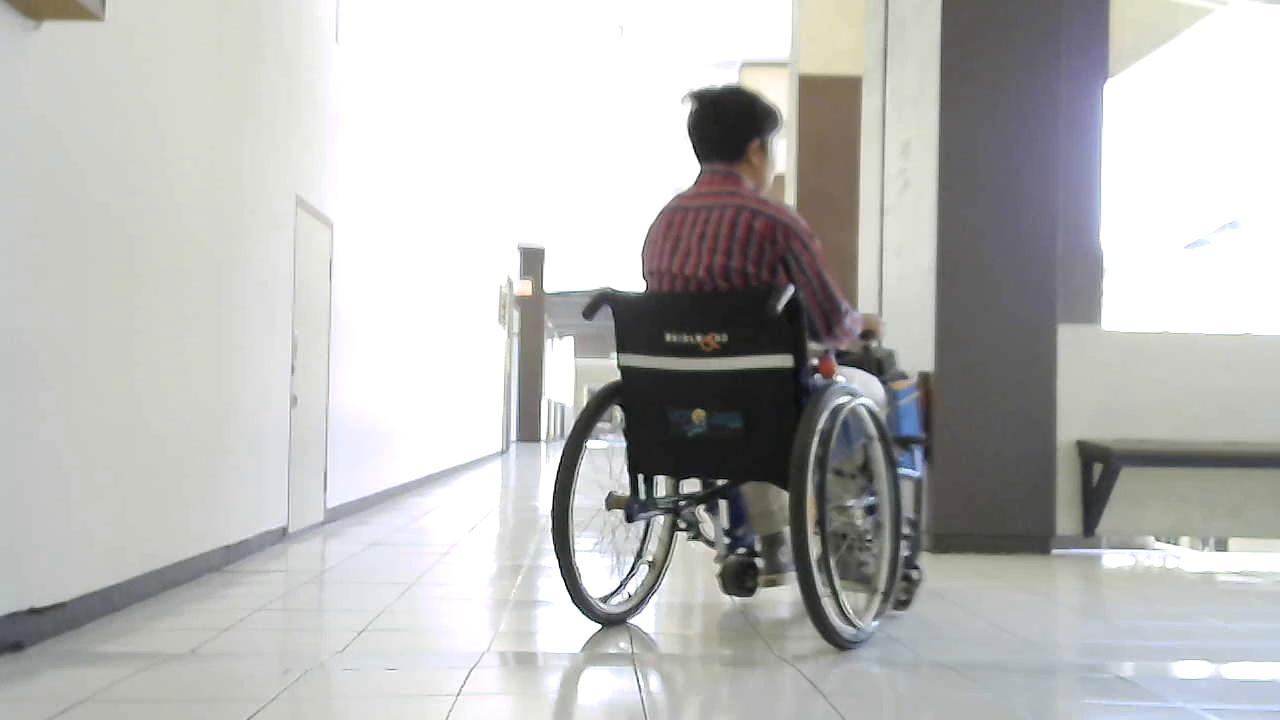person: (641, 83, 862, 352)
wheelchair: (542, 270, 948, 665)
